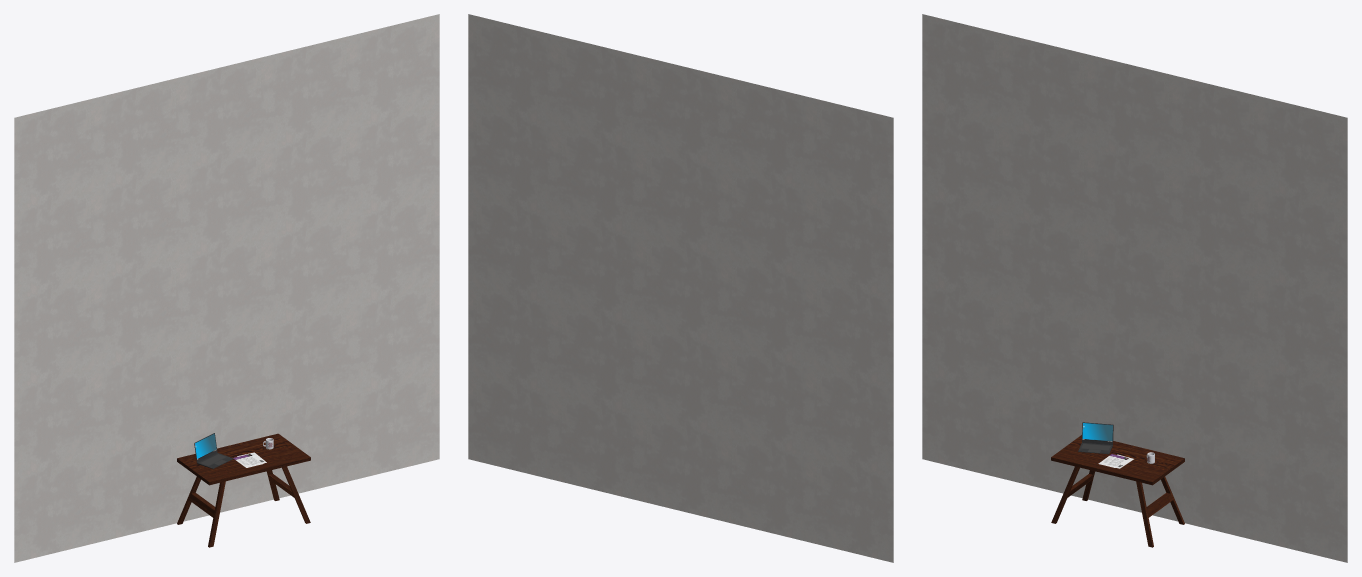
File: Resume Office.gltf
3 views of the same model, side by side, from view 1: azimuth 30°, elevation 25°; view 2: azimuth 150°, elevation 25°; view 3: azimuth 330°, elevation 25° (orthographic).
Parts seen in each view (by area): view 1: Wall, Desk; view 2: Wall; view 3: Wall, Desk, Lid.
Part boxes in pixels (box(x1,y1,x2,y2)): Wall: box(14, 14, 439, 562); Desk: box(177, 433, 310, 547); Wall: box(468, 14, 893, 562); Wall: box(922, 14, 1347, 562); Desk: box(1051, 435, 1184, 547); Lid: box(1082, 422, 1113, 444).
Bounding box in the file's own units: 5 × 5 × 0.6731.
